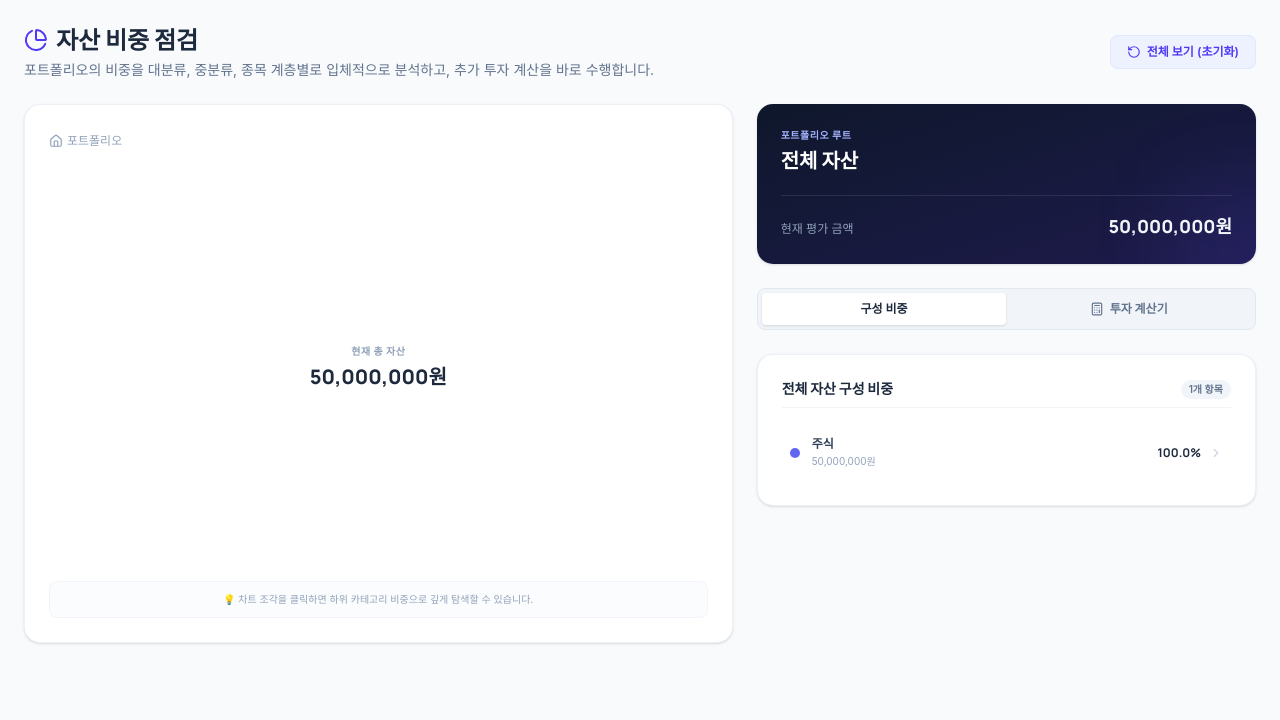
Test: RatioCheckPage › 소분류 단계에서 여러 개의 자산을 클릭하면 이전 펼쳐진 자산이 닫히지 않고 동시에 모두 노출된다
The width and height of the screenshot is (1280, 720).
Click the text "주식". click: point(823, 444)
box: [812, 436, 834, 451]
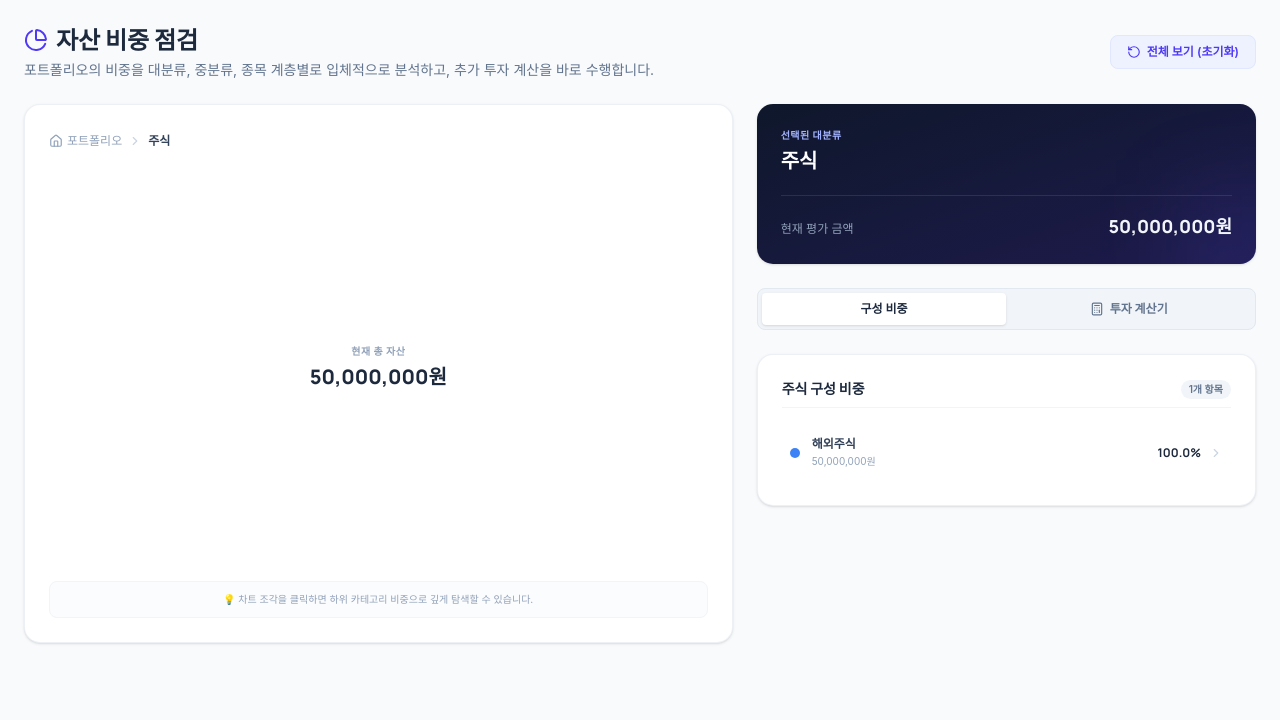
Click the text "해외주식". click: point(834, 444)
box: [812, 436, 856, 451]
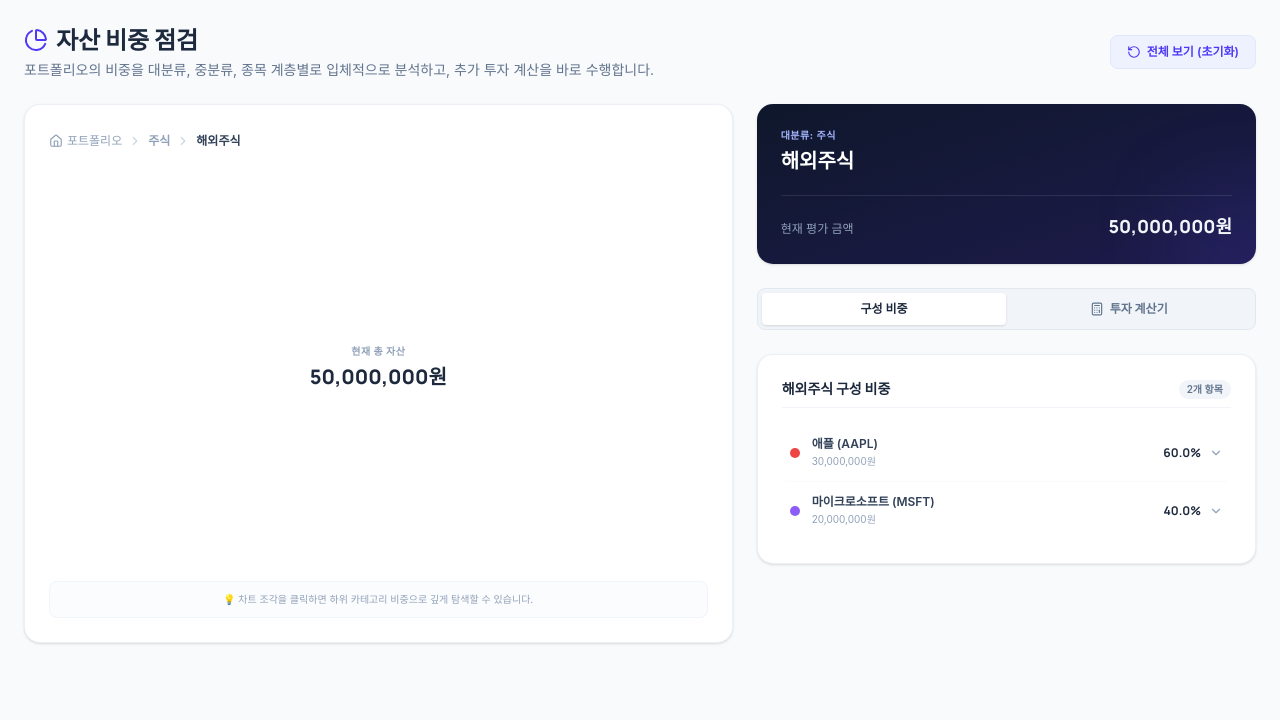
Expected: the text "6066-7729" is not shown
Expected: the text "애플 (AAPL)" is shown
Expected: the text "마이크로소프트 (MSFT)" is shown, [812, 494, 935, 510]
Click the text "애플 (AAPL)". click: point(845, 444)
box: [812, 436, 878, 452]
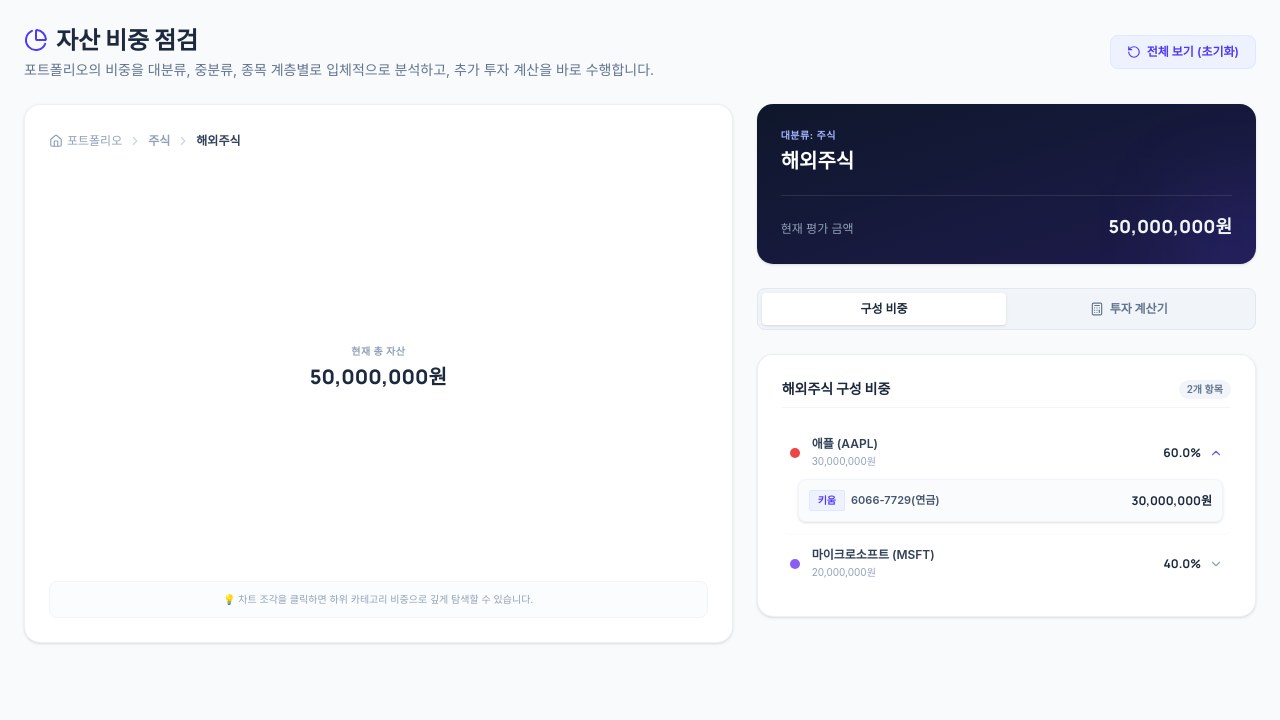
Expected: the text "1234-5678" is not shown
Expected: the text "6066-7729(연금)" is shown, [851, 492, 940, 509]
Click the text "마이크로소프트 (MSFT)". click: point(873, 555)
box: [812, 547, 935, 563]
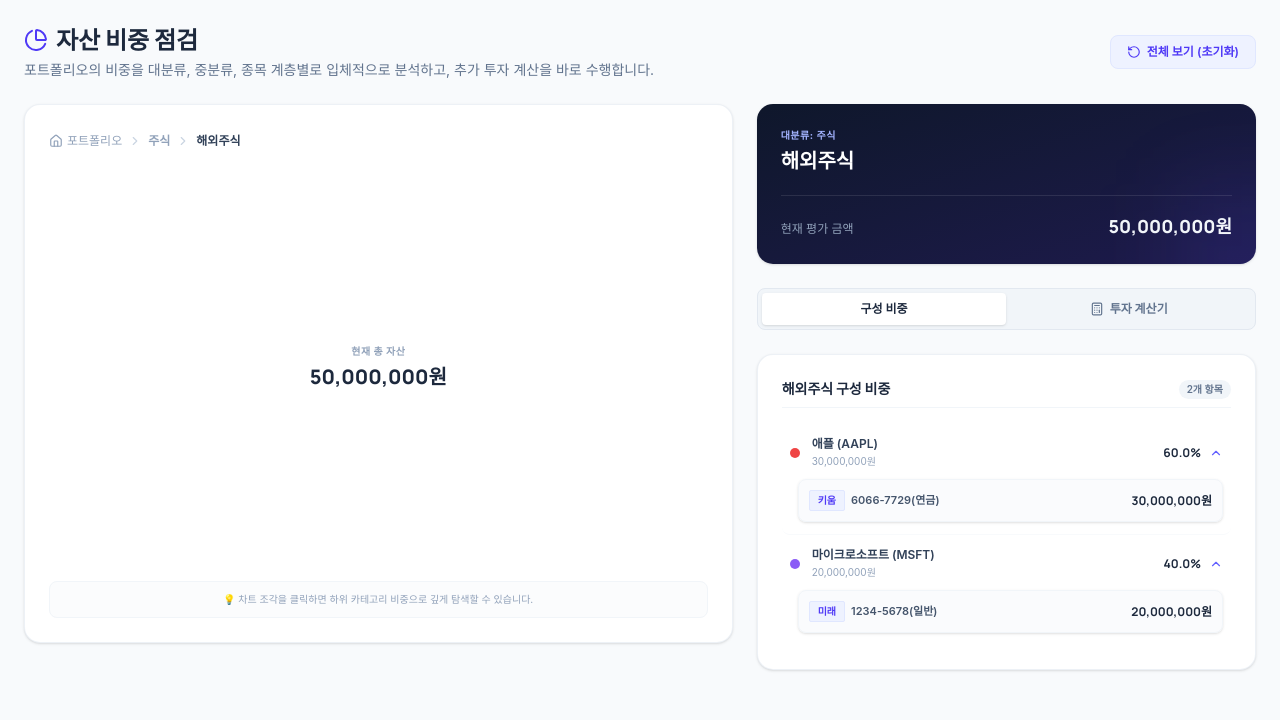
Expected: the text "6066-7729(연금)" is shown, [851, 492, 940, 509]
Expected: the text "1234-5678(일반)" is shown, [851, 603, 938, 620]
